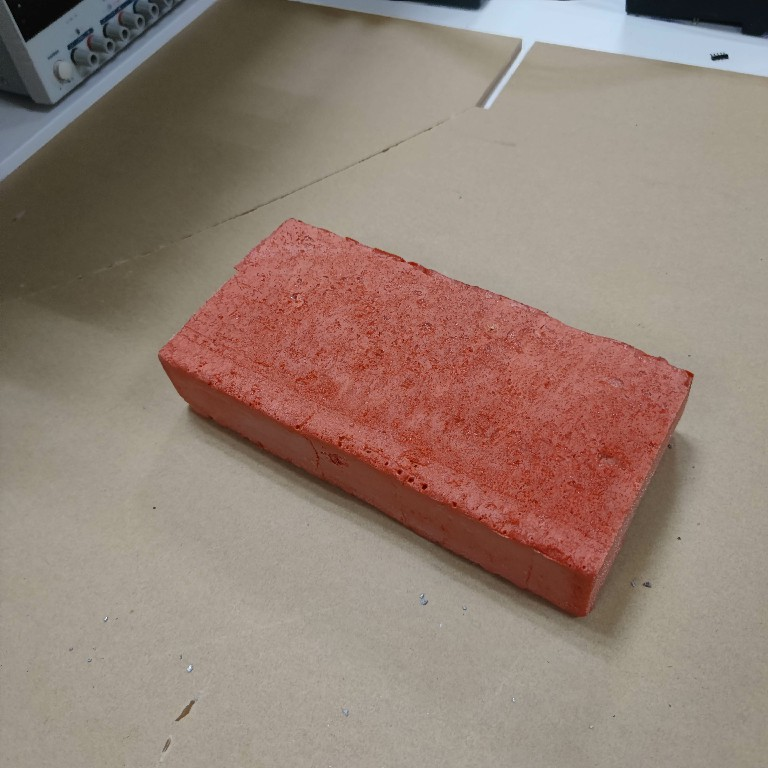brick: (151, 213, 697, 623)
